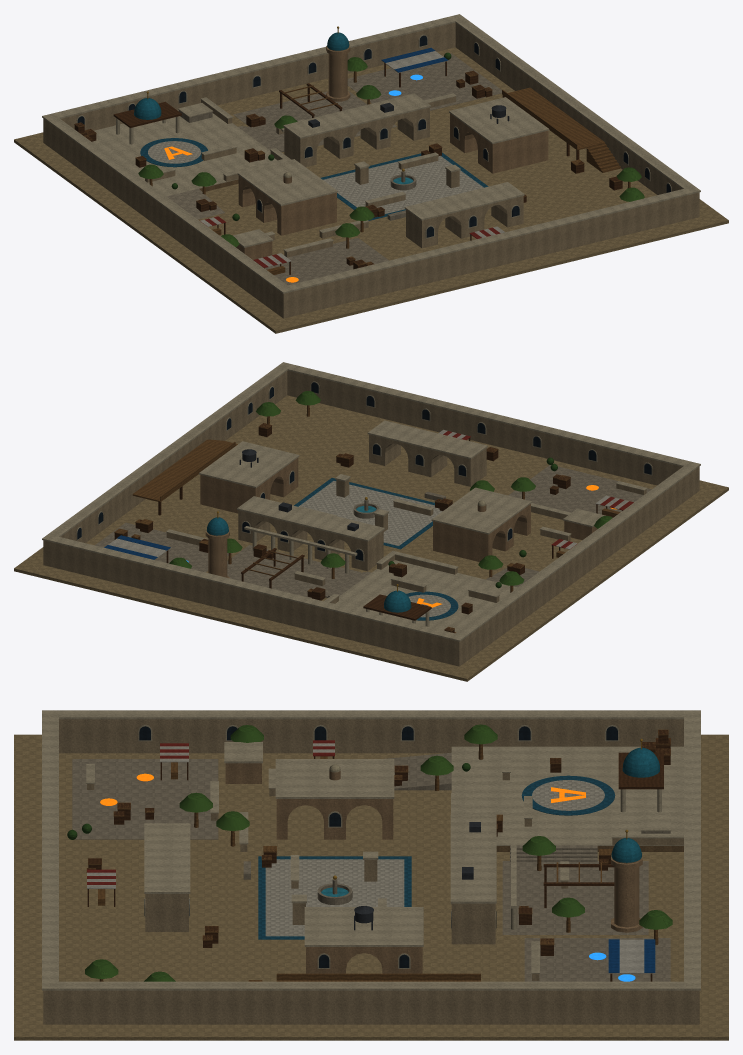
The model's file is wingman_oasis_large.glb.
3 renders of one model, top to bottom at view 1: azimuth 30°, elevation 25°; view 2: azimuth 150°, elevation 25°; view 3: azimuth 270°, elevation 25°, orthographic. The views are drawn at different scales.
Visible parts, largest first — view 1: Wingman_Oasis_A; view 2: Wingman_Oasis_A; view 3: Wingman_Oasis_A.
Part boxes in pixels (<box>): Wingman_Oasis_A: <box>14,14,728,333</box>; Wingman_Oasis_A: <box>14,362,728,681</box>; Wingman_Oasis_A: <box>14,710,728,1040</box>.
Size of what is drawn, in the model's own units: 98 by 15.12 by 98.
Materials: 23 (23 with a texture image).
